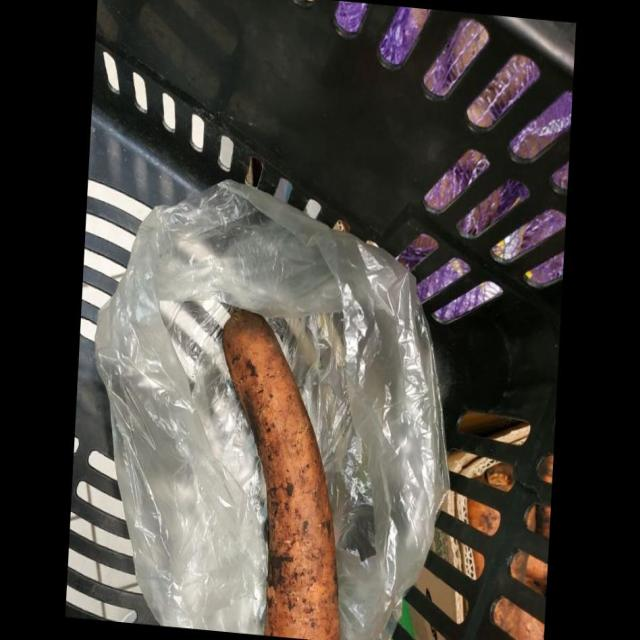carrot: (173, 266, 467, 640)
